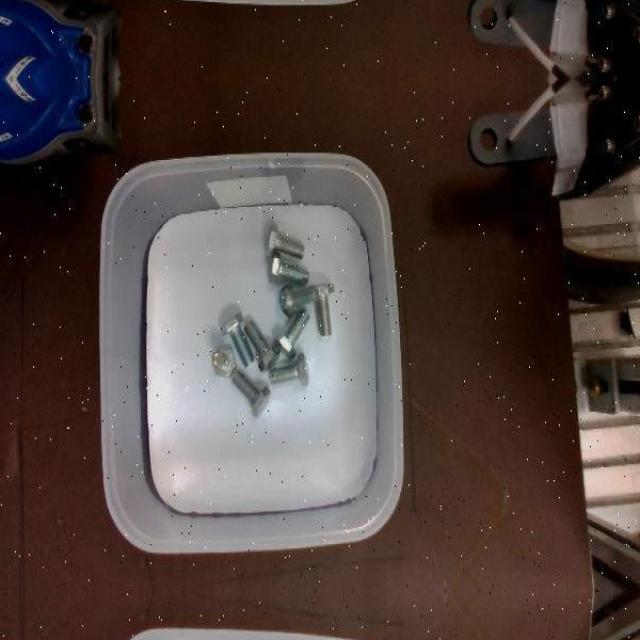screw: (231, 369, 271, 418), (221, 311, 255, 367), (274, 308, 311, 359), (244, 320, 281, 371), (270, 248, 310, 286), (267, 223, 305, 260), (269, 352, 309, 386), (279, 285, 319, 317), (212, 348, 237, 378)
